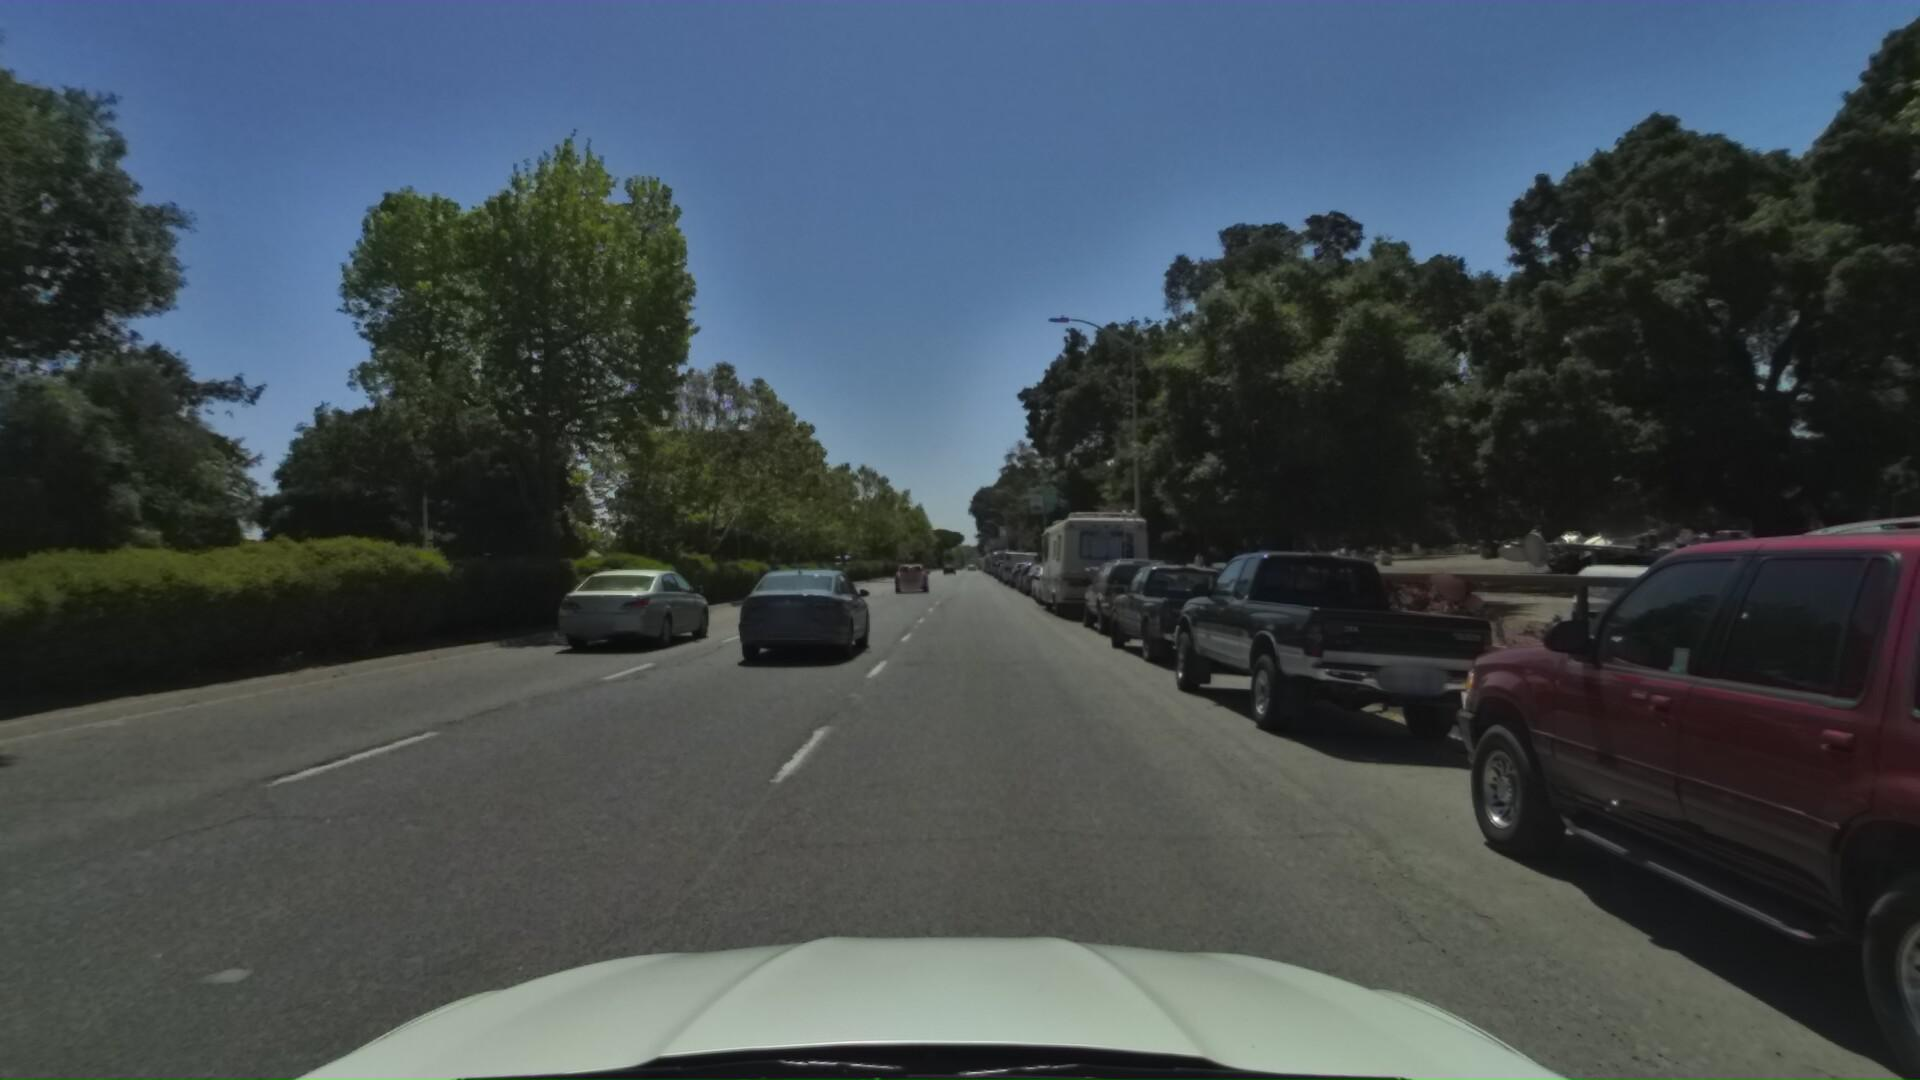car: (1441, 345, 1920, 1080), (1162, 524, 1563, 771), (1101, 550, 1287, 669), (731, 563, 876, 676), (556, 564, 724, 659), (1077, 546, 1189, 634), (1033, 554, 1091, 605), (1029, 554, 1079, 596), (1019, 553, 1068, 593), (1015, 550, 1056, 589), (893, 556, 931, 591), (1007, 550, 1040, 582)
other_vehicle: (1031, 495, 1164, 622), (1000, 538, 1040, 580)
